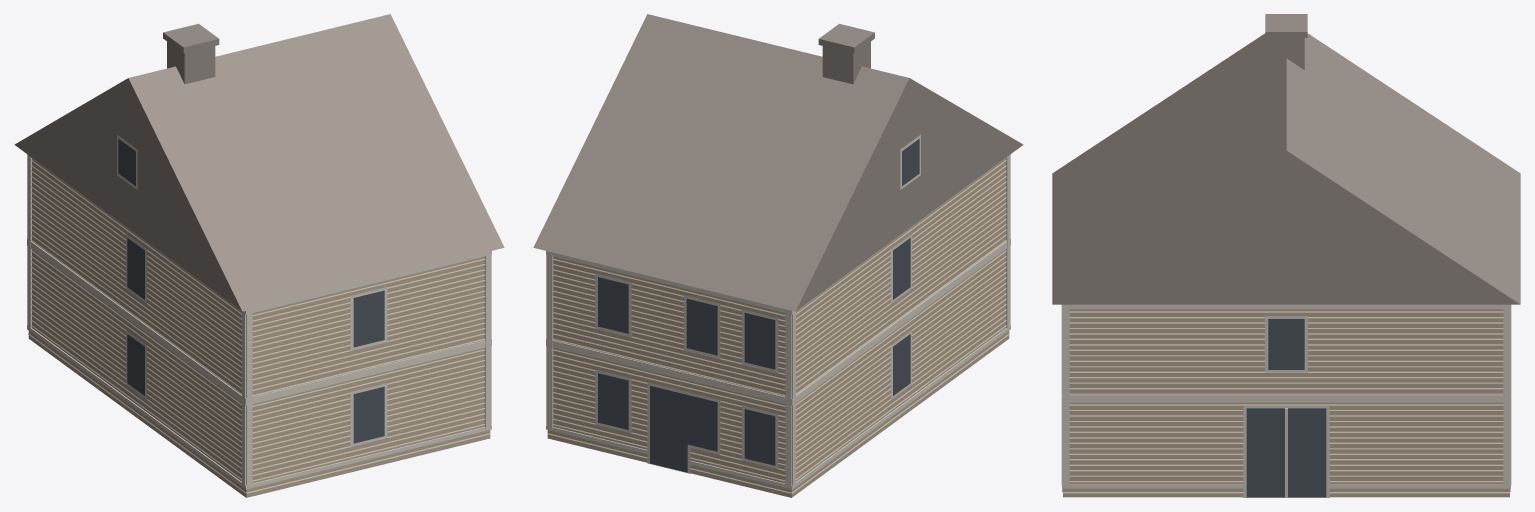
File: temple_lake_st_building__documented_1835.glb
3 renders of one model, left to right at view 1: azimuth 30°, elevation 25°; view 2: azimuth 150°, elevation 25°; view 3: azimuth 270°, elevation 25°, orthographic. The views are drawn at different scales.
Parts seen in each view (by area): view 1: temple_lake_st_building__documented_1835; view 2: temple_lake_st_building__documented_1835; view 3: temple_lake_st_building__documented_1835.
Boxes of the visible parts, box(x1,y1,x2,y2) form: temple_lake_st_building__documented_1835: box(14, 14, 504, 497); temple_lake_st_building__documented_1835: box(533, 14, 1023, 497); temple_lake_st_building__documented_1835: box(1052, 14, 1520, 497).
Bounding box in the file's own units: 7.24 × 9.71 × 10.86.
